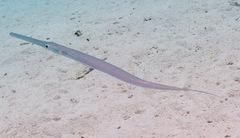Fistularia commersonii: (8, 29, 226, 103)
